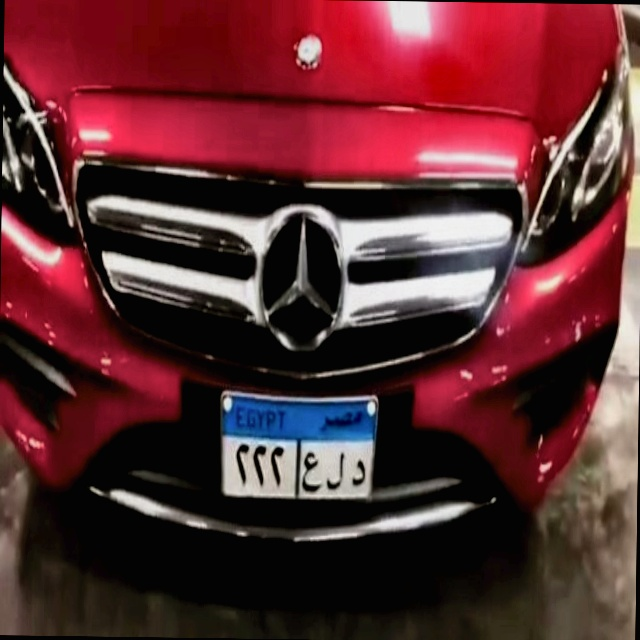License Plate: (213, 386, 382, 515)
